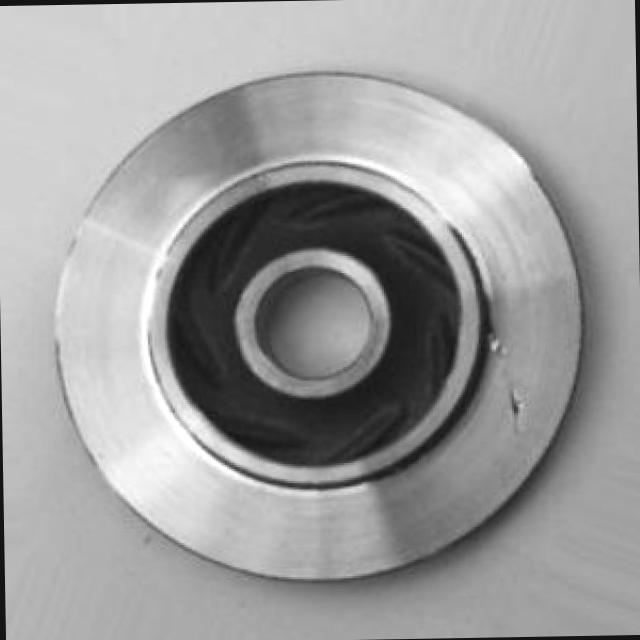Defect: (498, 386, 534, 428)
